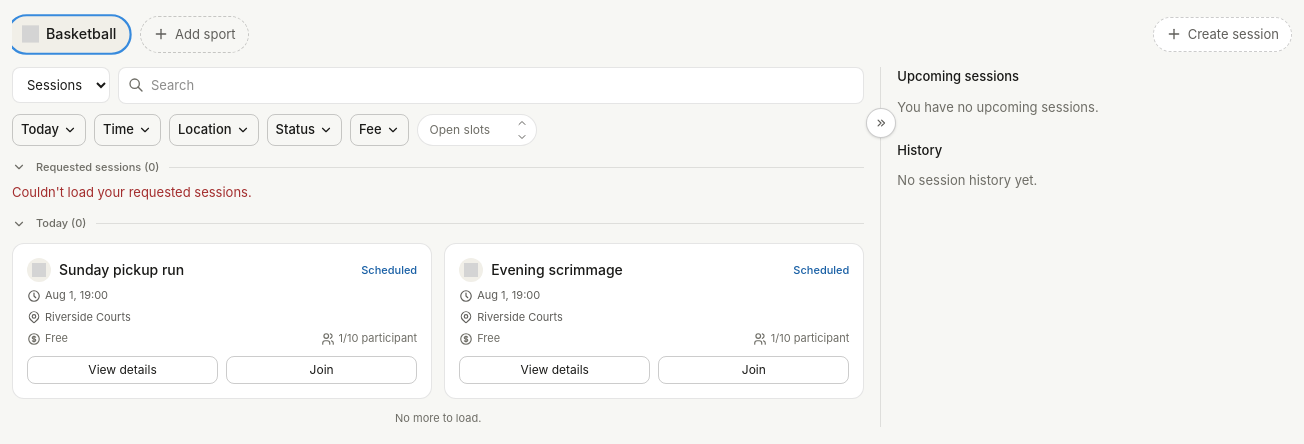
MatchesPage › the search input filters the Discover grid by title
Expected: the text "Sunday pickup run" is shown, [59,261,184,278]
Expected: the text "Evening scrimmage" is shown, [491,261,623,278]
Type "pickup" into the field named "Search sessions" at x=491, y=85, box [118,67,864,104]
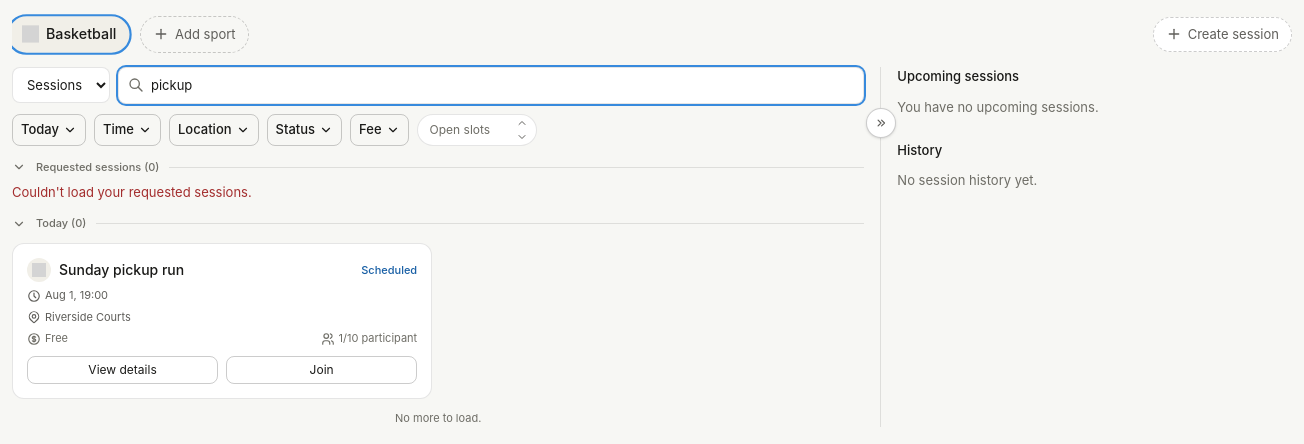
Expected: the text "Sunday pickup run" is shown, [59,261,184,278]
Result: the text "Evening scrimmage" is gone
